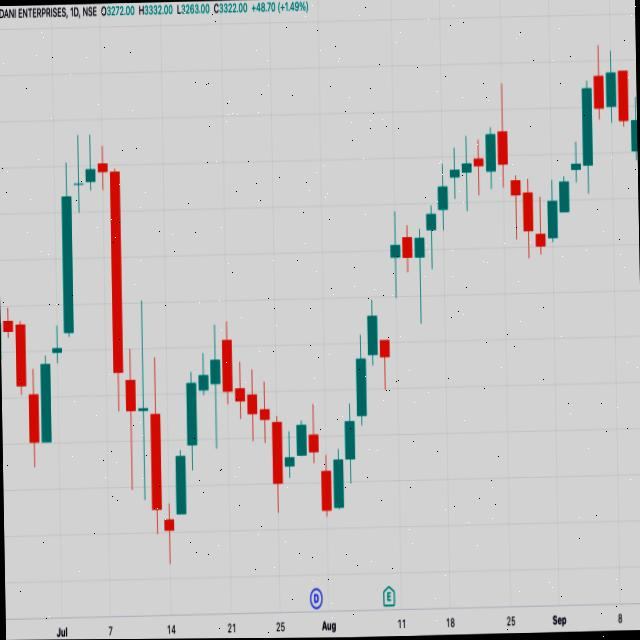Gap Up: (375, 212, 404, 397)
